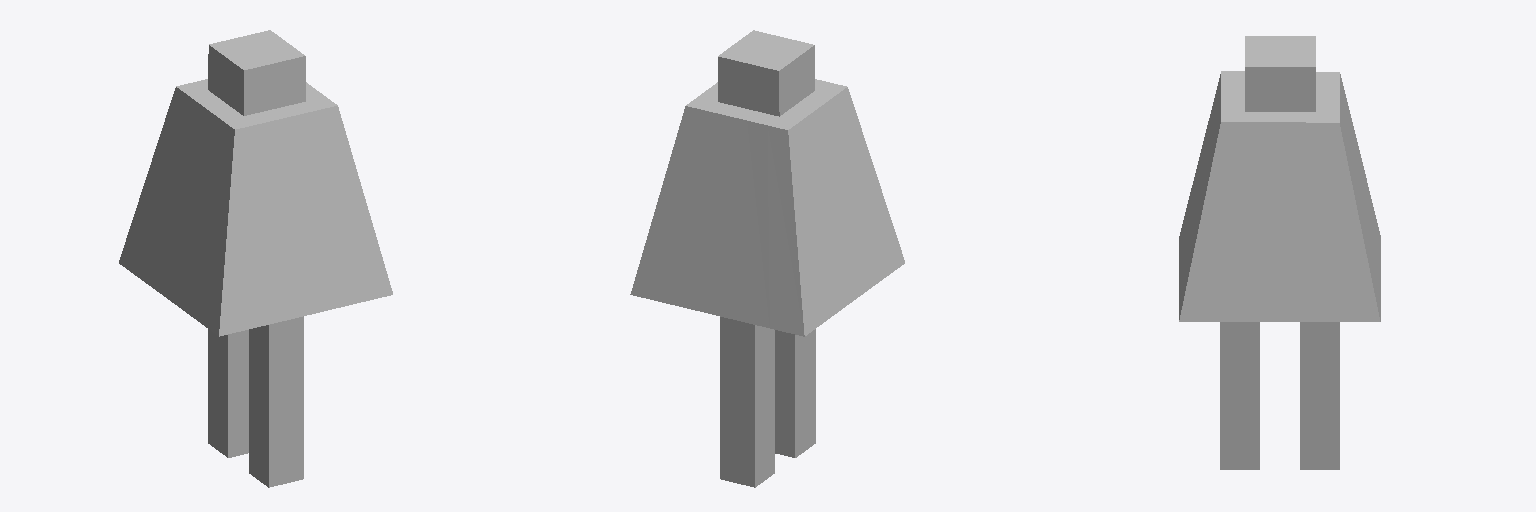
Rendered from essai-stand.obj.
3 renders of one model, left to right at view 1: azimuth 30°, elevation 25°; view 2: azimuth 150°, elevation 25°; view 3: azimuth 270°, elevation 25°, orthographic.
Visible parts, largest first — view 1: Cube; view 2: Cube; view 3: Cube.
Boxes of the visible parts, <box> form: Cube: <box>119,30,392,487</box>; Cube: <box>630,30,904,487</box>; Cube: <box>1179,36,1380,469</box>.
Size of the model in its own units: 2 by 4.5 by 2.